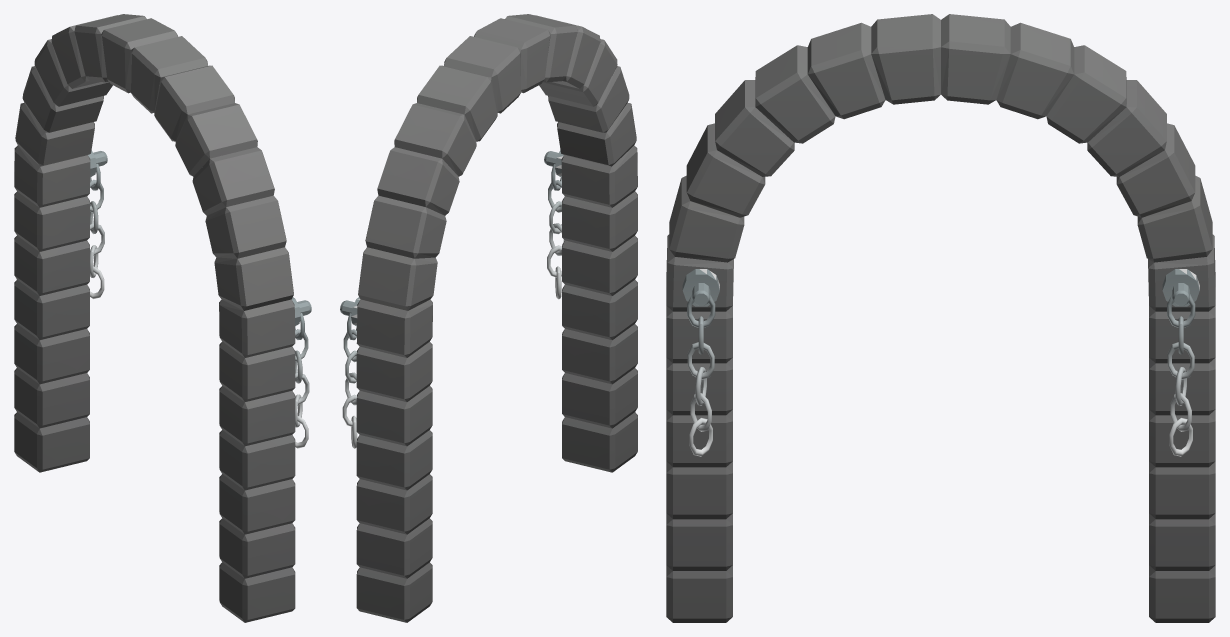
File: MedievalGate.fbx
3 renders of one model, left to right at view 1: azimuth 30°, elevation 25°; view 2: azimuth 150°, elevation 25°; view 3: azimuth 270°, elevation 25°, orthographic. The views are drawn at different scales.
Visible parts, largest first — view 1: pCube112; view 2: pCube112; view 3: pCube112.
Boxes of the visible parts, box(x1,y1,x2,y2) form: pCube112: box(14, 14, 311, 622); pCube112: box(340, 14, 637, 622); pCube112: box(666, 14, 1215, 622).
Size of the model in its own units: 1.84 by 11.07 by 9.48.
Materials: 1 (1 with a texture image).
